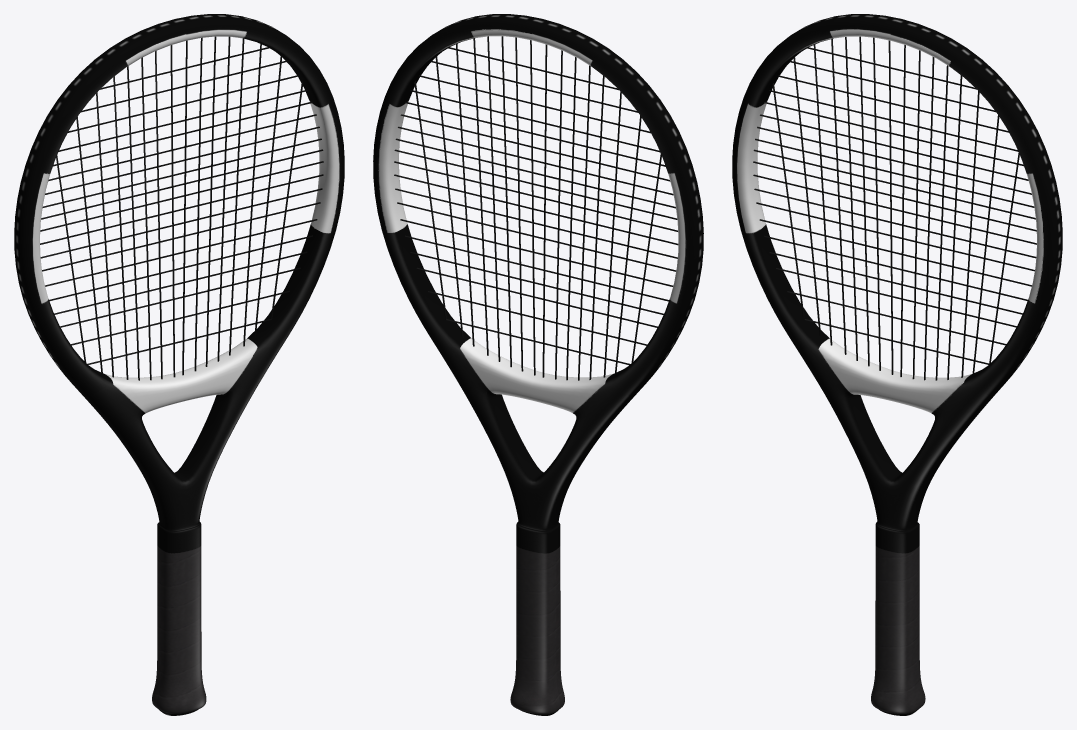
The model's file is 10540_Tennis_racket_V2_L3.obj.
3 views of the same model, side by side, from view 1: azimuth 30°, elevation 25°; view 2: azimuth 150°, elevation 25°; view 3: azimuth 330°, elevation 25° (orthographic).
Parts seen in each view (by area): view 1: 10540_tennis_racket_v2; view 2: 10540_tennis_racket_v2; view 3: 10540_tennis_racket_v2.
Part boxes in pixels (x1,y1,x2,y2): 10540_tennis_racket_v2: (14, 14, 344, 715); 10540_tennis_racket_v2: (373, 14, 703, 715); 10540_tennis_racket_v2: (732, 14, 1062, 715).
Size of the model in its own units: 0.4353 by 0.8839 by 0.0552.
